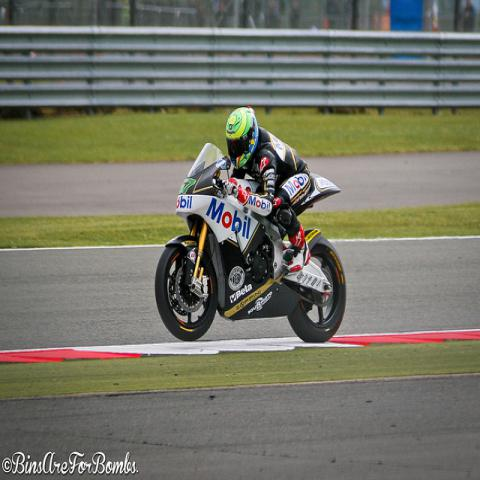motorcycle: (158, 113, 348, 344)
